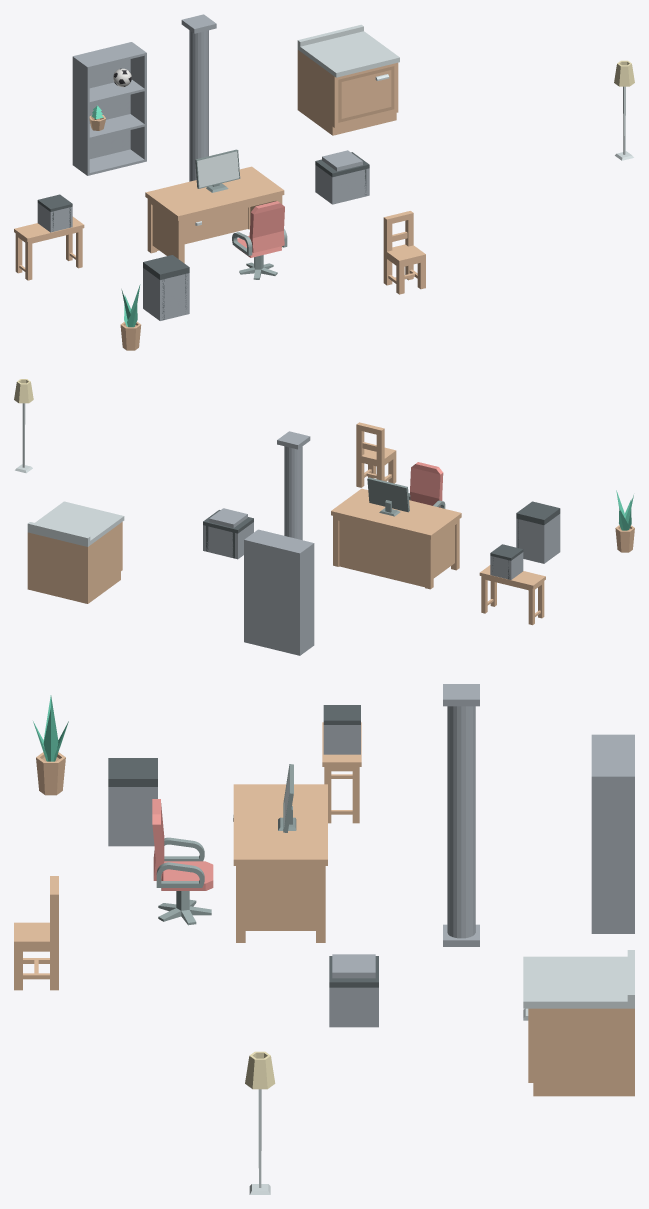
The picture shows the model from 3 angles, top to bottom: view 1: azimuth 30°, elevation 25°; view 2: azimuth 150°, elevation 25°; view 3: azimuth 270°, elevation 25°; orthographic projection. The views are drawn at different scales.
Parts seen in each view (by area): view 1: desk_blue__desk(Clone), cabinet_blue__kitchenCabinet(Clone), column_cyan__column_cyan shaft, cabinet_blue__door, chair_cyan__chair(Clone), shelf_orange__shelf_orange back, deskchair_black__chair, shelf_orange__shelf_orange side_l, bin_gray__bin_gray shell, sidetable_brown__sideTable(Clone), crate_red__crate_red shell, monitor_gray__computerScreen(Clone) (+10 smaller); view 2: desk_blue__desk(Clone), cabinet_blue__kitchenCabinet(Clone), shelf_orange__shelf_orange back, chair_cyan__chair(Clone), shelf_orange__shelf_orange side_l, column_cyan__column_cyan shaft, bin_gray__bin_gray shell, sidetable_brown__sideTable(Clone), deskchair_black__chair, monitor_gray__computerScreen(Clone), crate_red__crate_red shell, lamp_white__lampRoundFloor(Clone) (+6 smaller); view 3: cabinet_blue__kitchenCabinet(Clone), desk_blue__desk(Clone), shelf_orange__shelf_orange side_r, column_cyan__column_cyan shaft, deskchair_black__chair, chair_cyan__chair(Clone), bin_gray__bin_gray shell, crate_red__crate_red shell, sidetable_brown__sideTable(Clone), shelf_orange__shelf_orange board3, lamp_white__lampRoundFloor(Clone), bin_gray__bin_gray lid (+8 smaller).
Part boxes in pixels (box(x1,y1,x2,y2)): desk_blue__desk(Clone): box(145, 166, 284, 263); cabinet_blue__kitchenCabinet(Clone): box(297, 24, 399, 135); column_cyan__column_cyan shaft: box(189, 30, 208, 181); cabinet_blue__door: box(338, 66, 394, 122); chair_cyan__chair(Clone): box(383, 211, 425, 294); shelf_orange__shelf_orange back: box(75, 42, 130, 158); deskchair_black__chair: box(232, 201, 287, 257); shelf_orange__shelf_orange side_l: box(72, 55, 89, 175); bin_gray__bin_gray shell: box(143, 268, 189, 320); sidetable_brown__sideTable(Clone): box(14, 216, 84, 280); crate_red__crate_red shell: box(315, 165, 369, 204); monitor_gray__computerScreen(Clone): box(195, 149, 240, 192); desk_blue__desk(Clone): box(331, 488, 461, 589); cabinet_blue__kitchenCabinet(Clone): box(27, 501, 124, 603); shelf_orange__shelf_orange back: box(246, 540, 298, 655); chair_cyan__chair(Clone): box(356, 422, 396, 487); shelf_orange__shelf_orange side_l: box(298, 542, 314, 655); column_cyan__column_cyan shaft: box(284, 446, 302, 540); bin_gray__bin_gray shell: box(516, 514, 560, 563); sidetable_brown__sideTable(Clone): box(479, 565, 545, 625); deskchair_black__chair: box(408, 462, 445, 508); monitor_gray__computerScreen(Clone): box(367, 477, 409, 516); crate_red__crate_red shell: box(203, 522, 253, 559); lamp_white__lampRoundFloor(Clone): box(14, 379, 33, 473); cabinet_blue__kitchenCabinet(Clone): box(523, 950, 634, 1096); desk_blue__desk(Clone): box(233, 784, 327, 942); shelf_orange__shelf_orange side_r: box(591, 775, 634, 933); column_cyan__column_cyan shaft: box(447, 706, 475, 938); deskchair_black__chair: box(152, 799, 213, 890); chair_cyan__chair(Clone): box(14, 876, 58, 990); bin_gray__bin_gray shell: box(108, 787, 157, 846); crate_red__crate_red shell: box(329, 987, 378, 1027); sidetable_brown__sideTable(Clone): box(322, 722, 361, 823); shelf_orange__shelf_orange board3: box(591, 736, 632, 774); lamp_white__lampRoundFloor(Clone): box(245, 1051, 275, 1194); bin_gray__bin_gray lid: box(108, 758, 157, 786).
Size of the model in its own units: 7.86 by 2.2 by 5.01.
